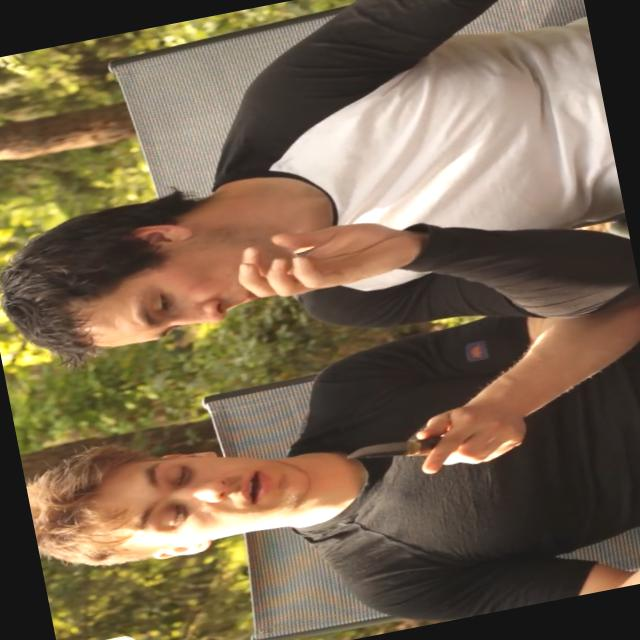knife: (319, 398, 506, 500)
